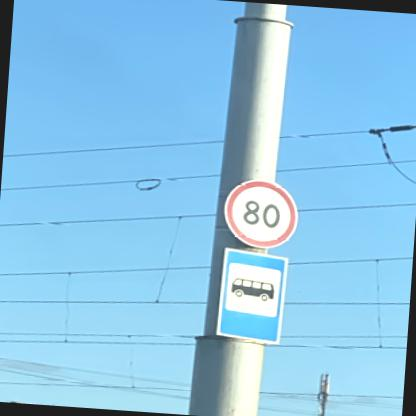speedlimit: (219, 177, 298, 249)
